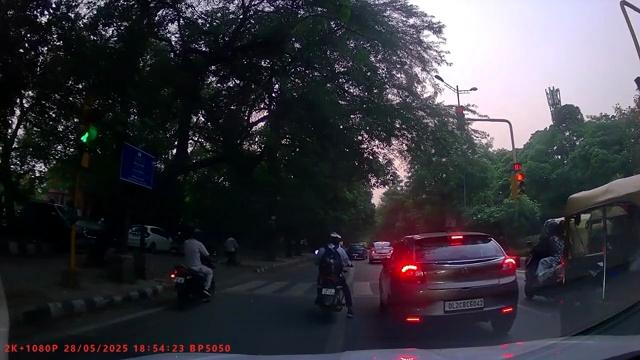motorcycle_with_helmet: (311, 230, 356, 322), (170, 223, 216, 308)
